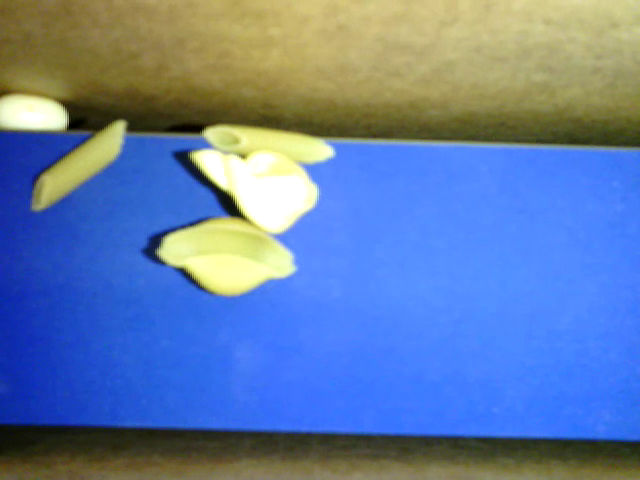penne: (32, 117, 126, 211), (201, 123, 336, 165)
shell: (155, 215, 294, 299)
tortellini: (189, 148, 319, 235)
